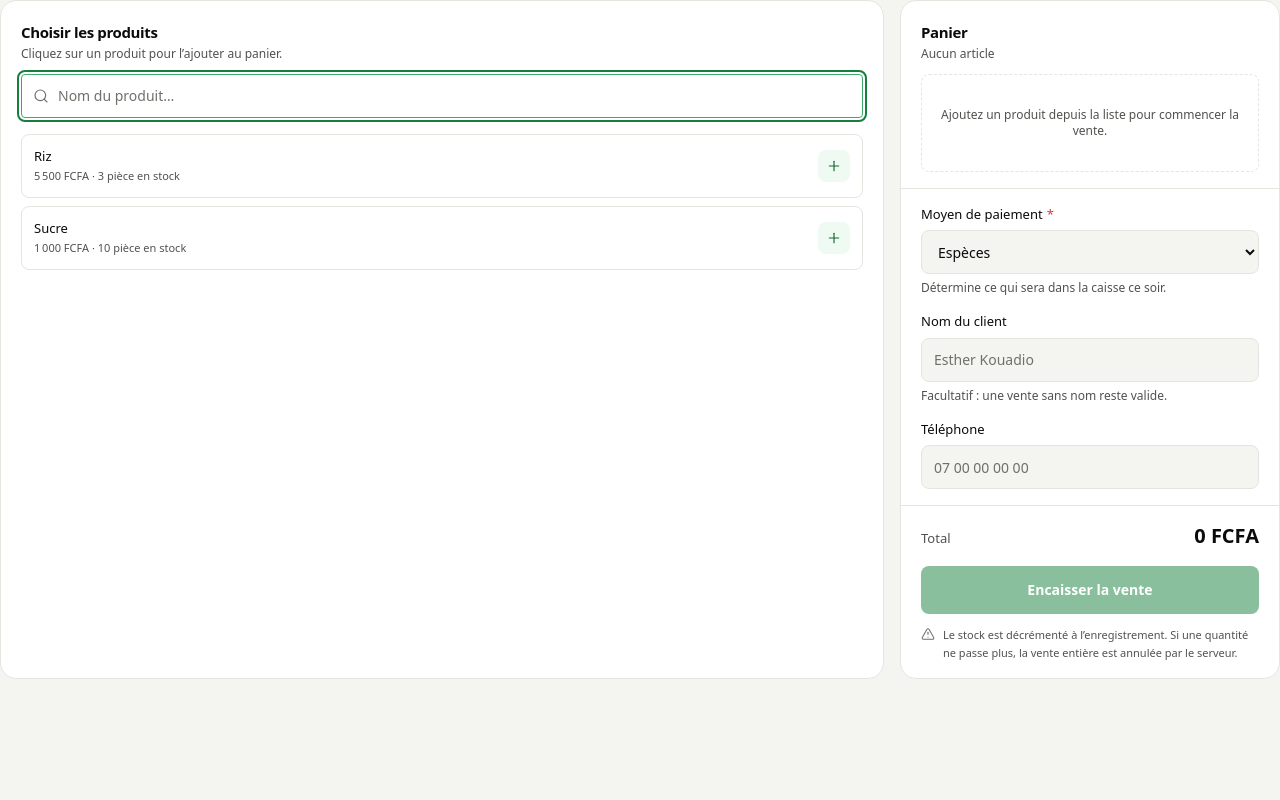
Scenario: composition du panier › retire une ligne du panier
This screenshot has width=1280, height=800.
Click the button "Riz 5 500 FCFA · 3 pièce en stock".
click(62, 176)  # box [21, 134, 863, 198]
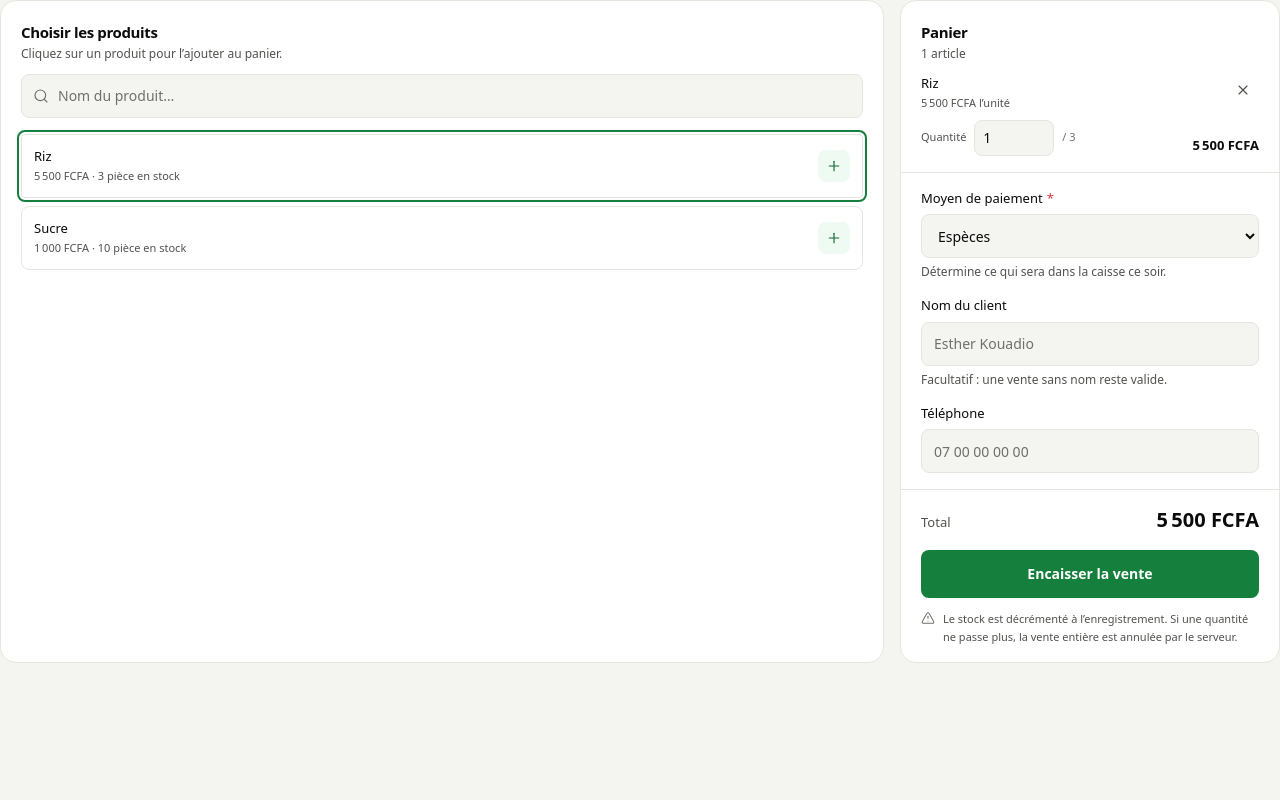
Click the button named "retirer riz".
click(1243, 90)  # box [1227, 74, 1259, 106]
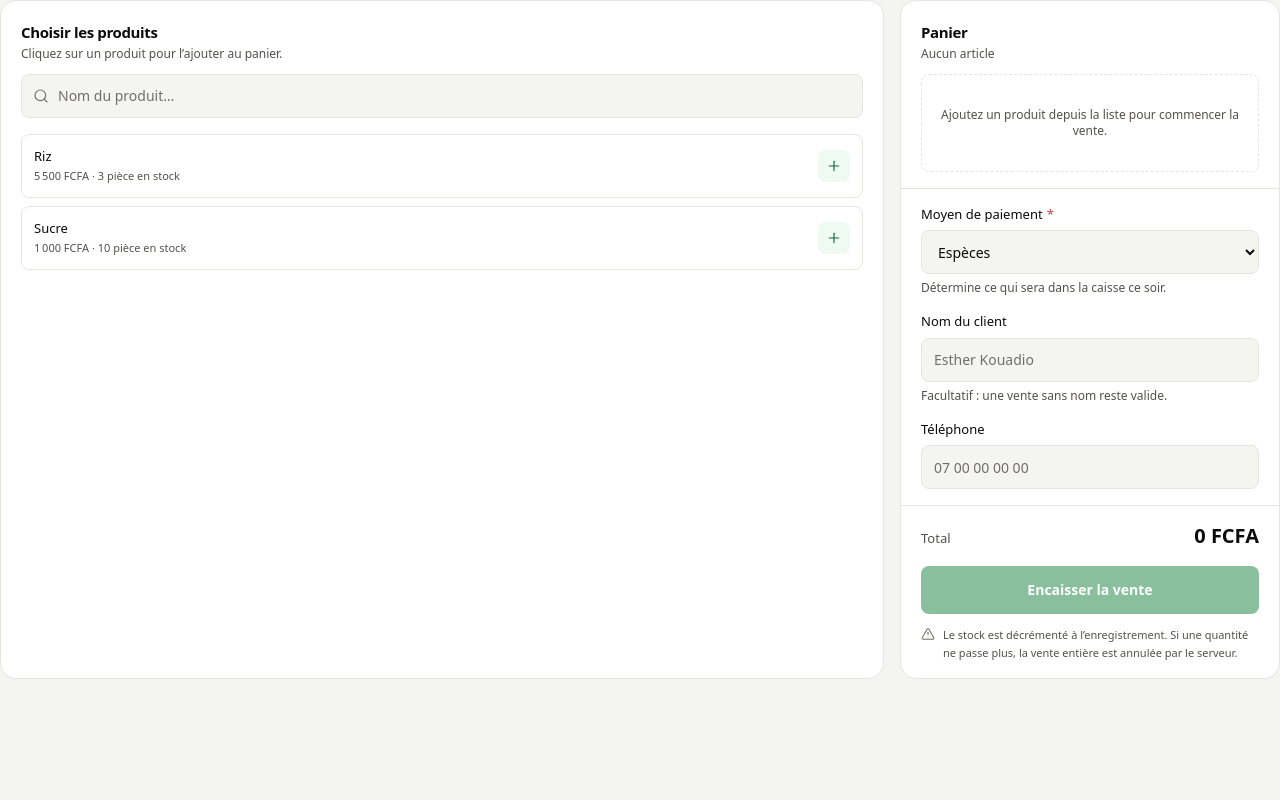
Check: the text "Aucun article" is shown, box [921, 46, 994, 62]
Check: the button "Encaisser la vente" is disabled, box [921, 566, 1259, 614]
